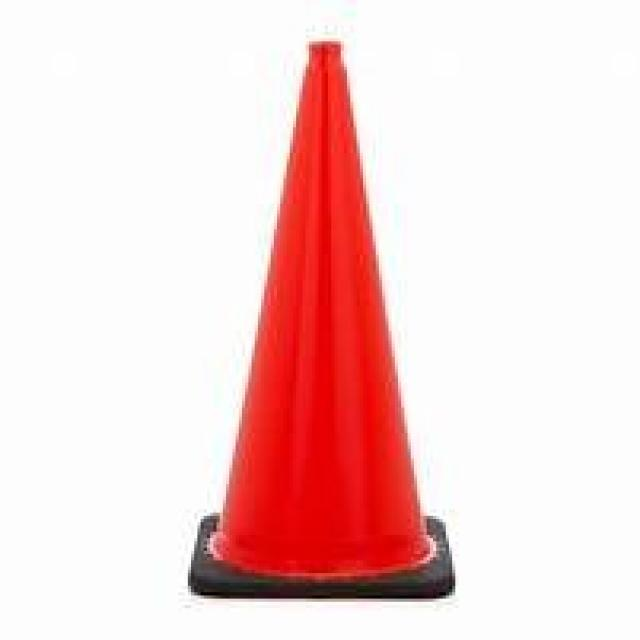traffic cone: (180, 32, 471, 610)
